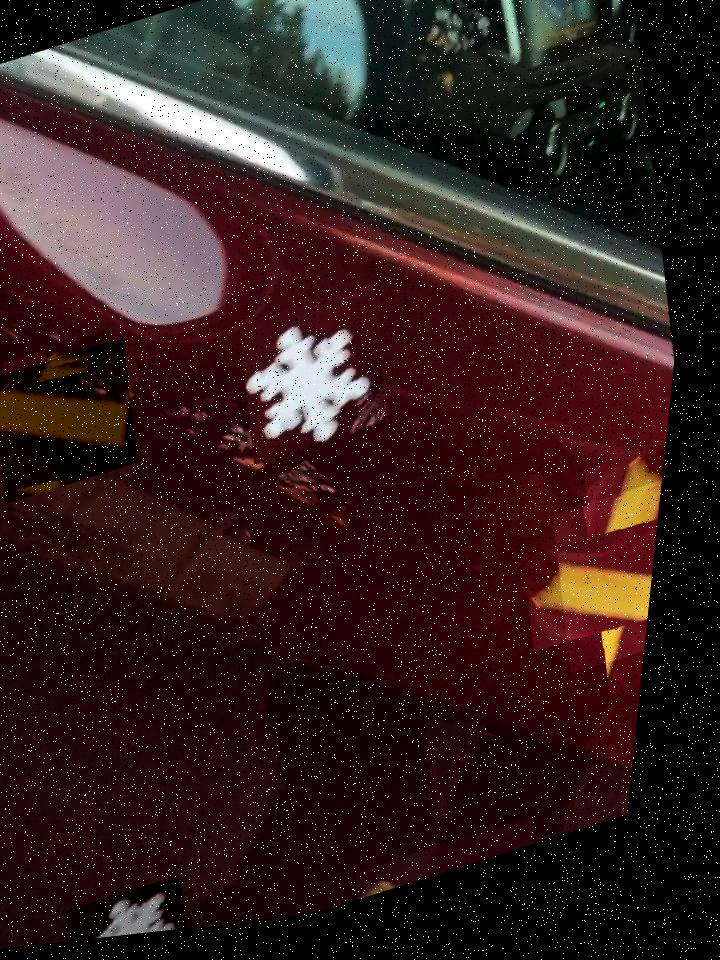dent: (235, 288, 412, 474), (82, 880, 217, 946)
scratch: (0, 338, 158, 507), (552, 492, 675, 692), (372, 831, 556, 911)
